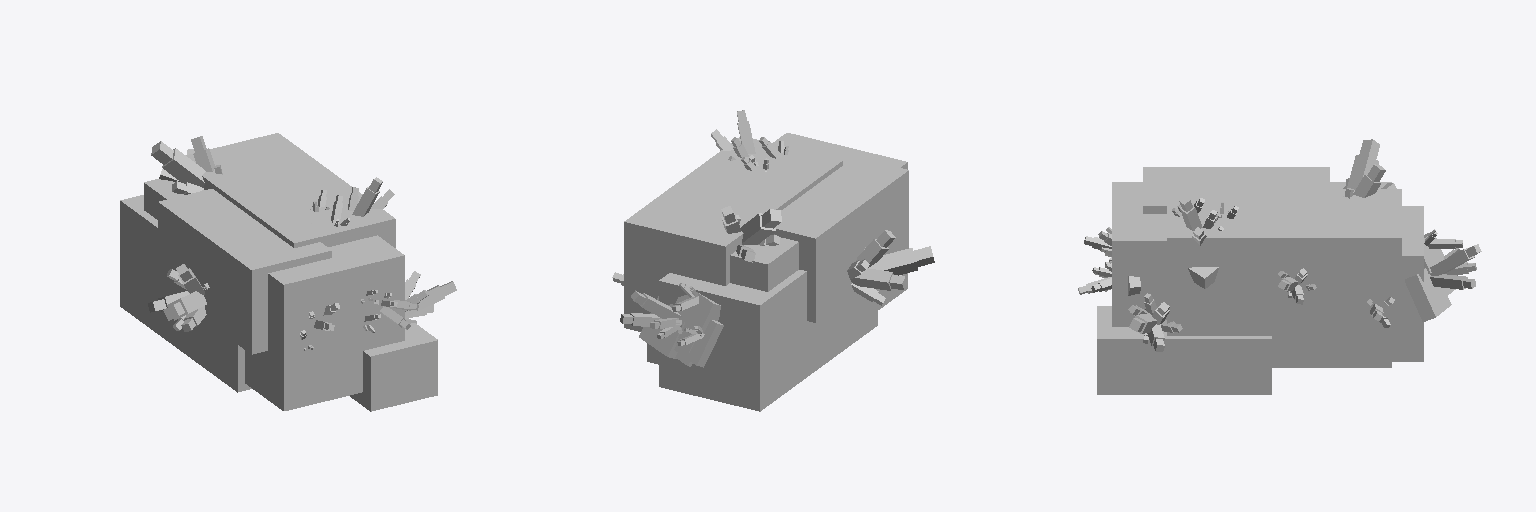
The model's file is crystal asteroid 1.obj.
3 views of the same model, side by side, from view 1: azimuth 30°, elevation 25°; view 2: azimuth 150°, elevation 25°; view 3: azimuth 270°, elevation 25° (orthographic).
Parts seen in each view (by area): view 1: crystal_asteroid_3 asteroid_crystal_1, cyrstal2_crystal_ore_base2 crystal_asteroid_3; view 2: crystal_asteroid_3 asteroid_crystal_1, cyrstal2_crystal_ore_base2 crystal_asteroid_3; view 3: crystal_asteroid_3 asteroid_crystal_1, cyrstal2_crystal_ore_base2 crystal_asteroid_3.
Part boxes in pixels (x1,y1,x2,y2): crystal_asteroid_3 asteroid_crystal_1: (120, 133, 437, 411); cyrstal2_crystal_ore_base2 crystal_asteroid_3: (148, 136, 456, 350); crystal_asteroid_3 asteroid_crystal_1: (624, 133, 908, 411); cyrstal2_crystal_ore_base2 crystal_asteroid_3: (612, 110, 934, 367); crystal_asteroid_3 asteroid_crystal_1: (1097, 167, 1423, 394); cyrstal2_crystal_ore_base2 crystal_asteroid_3: (1078, 139, 1481, 351).
Bounding box in the file's own units: 8.48 × 5.91 × 11.48.